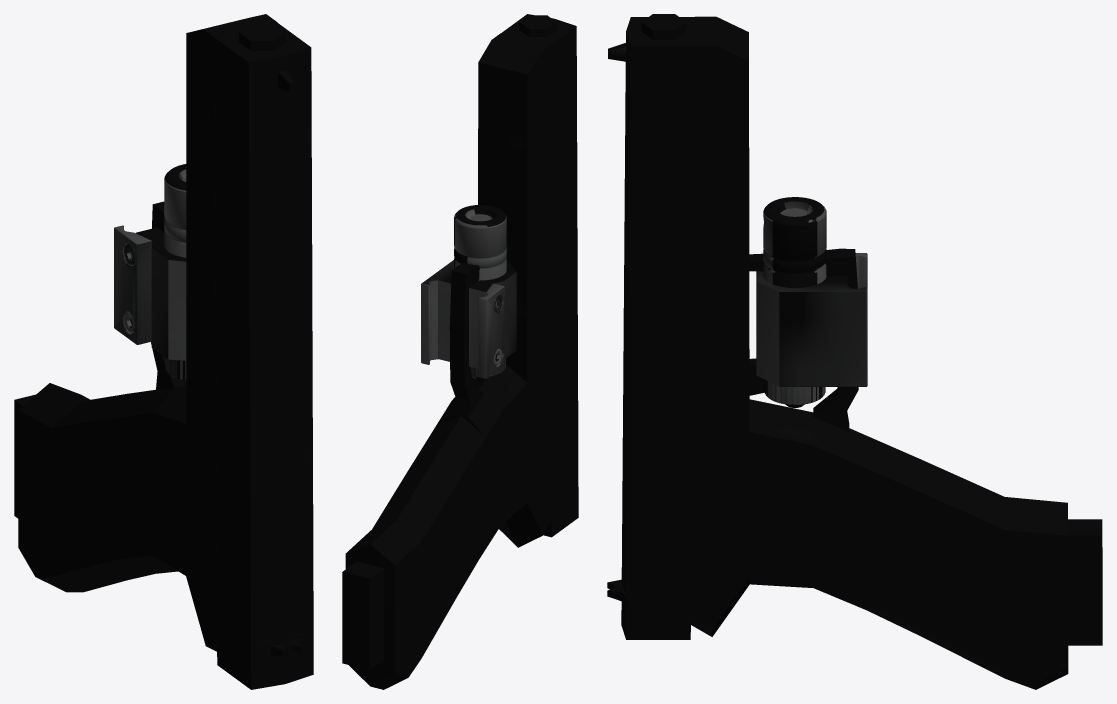
File: Glock21__Light_Pistol.fbx
3 renders of one model, left to right at view 1: azimuth 30°, elevation 25°; view 2: azimuth 150°, elevation 25°; view 3: azimuth 270°, elevation 25°, orthographic. The views are drawn at different scales.
Parts seen in each view (by area): view 1: asset_Glock21.001; view 2: asset_Glock21.001; view 3: asset_Glock21.001.
Boxes of the visible parts, box(x1,y1,x2,y2) form: asset_Glock21.001: box(14, 14, 313, 689); asset_Glock21.001: box(342, 14, 578, 689); asset_Glock21.001: box(607, 14, 1102, 689).
Size of the model in its own units: 0.016 by 0.1284 by 0.0863.
